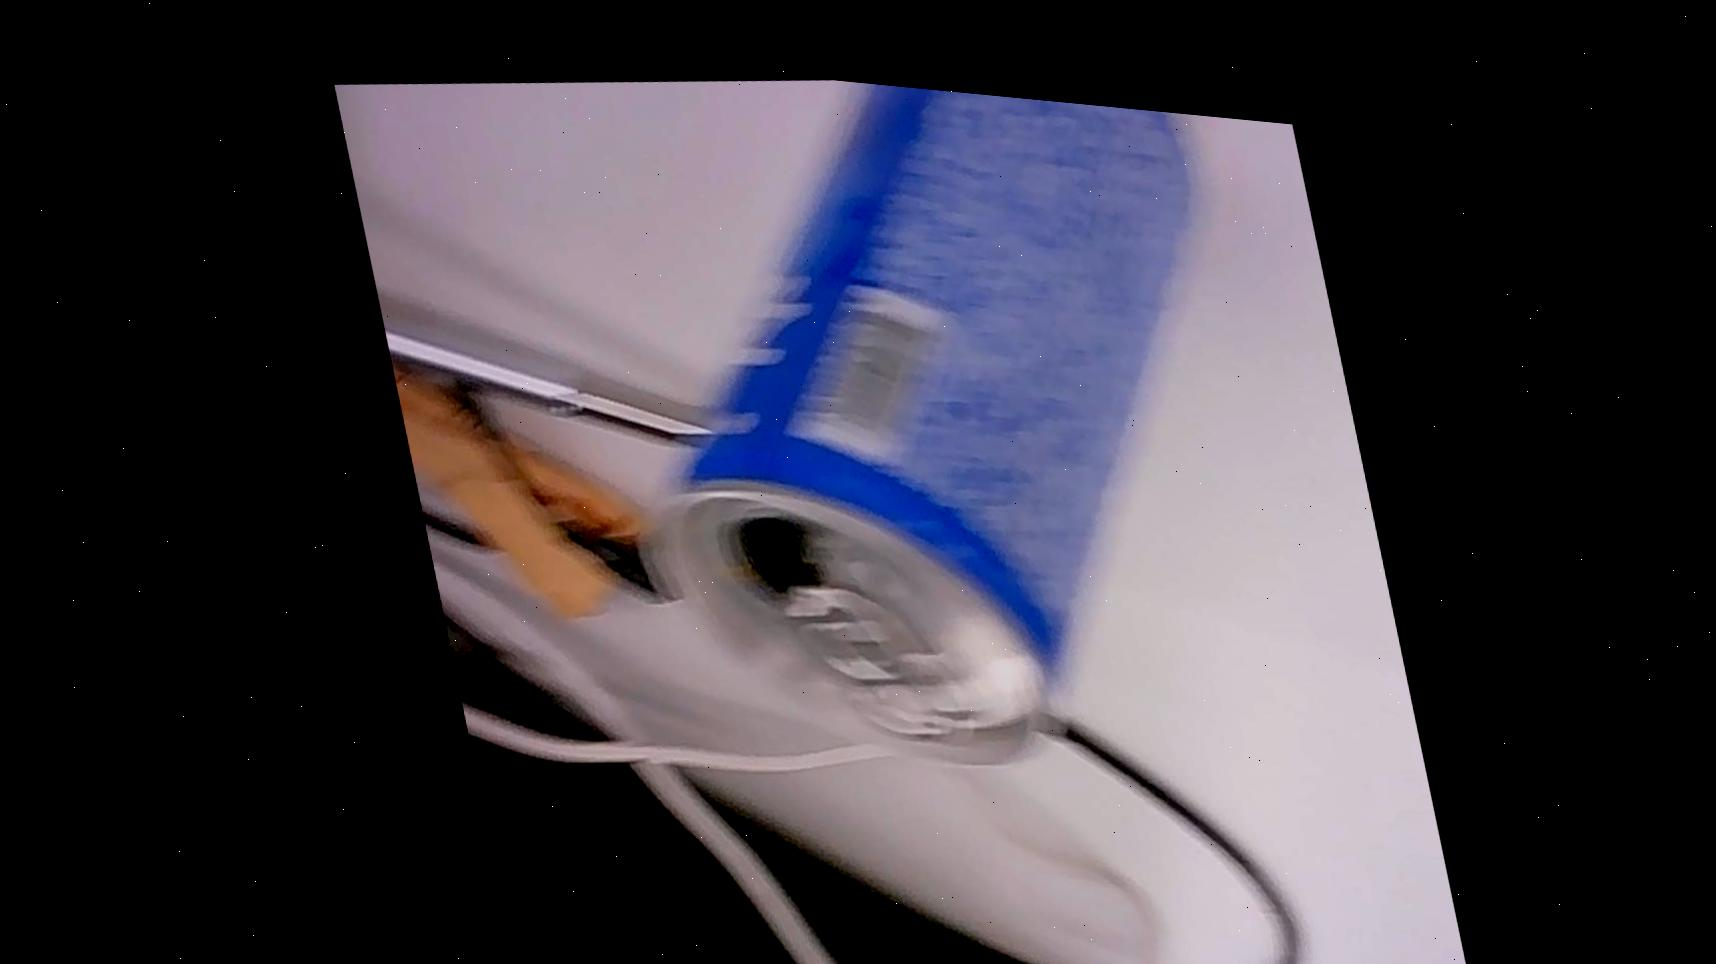letsbe: (541, 41, 1320, 808)
